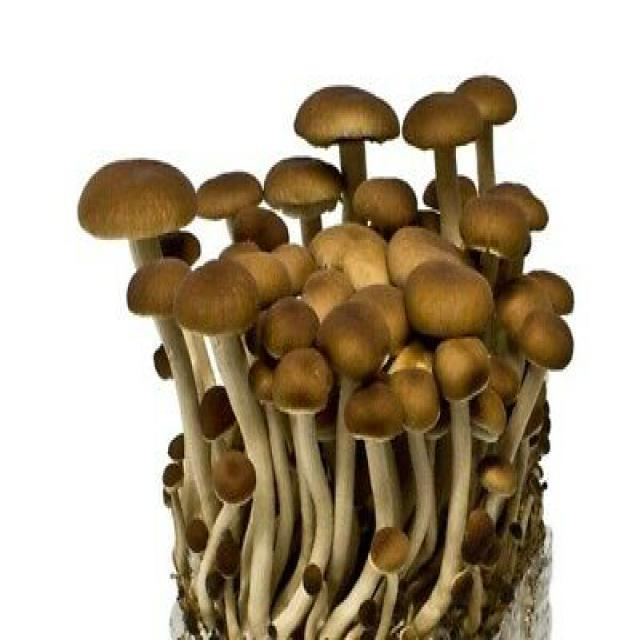Agrocybe aegerita: (82, 82, 574, 640)
